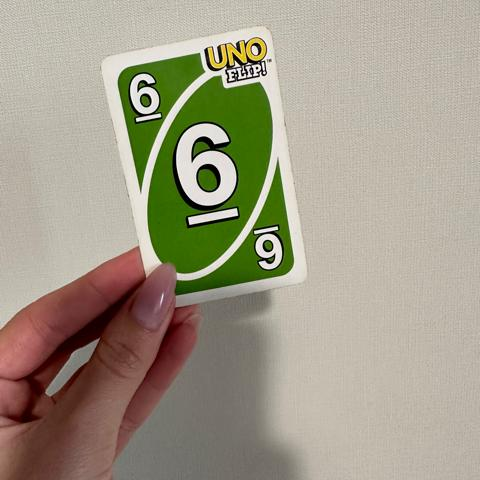lgreen-6: (120, 59, 170, 130)
